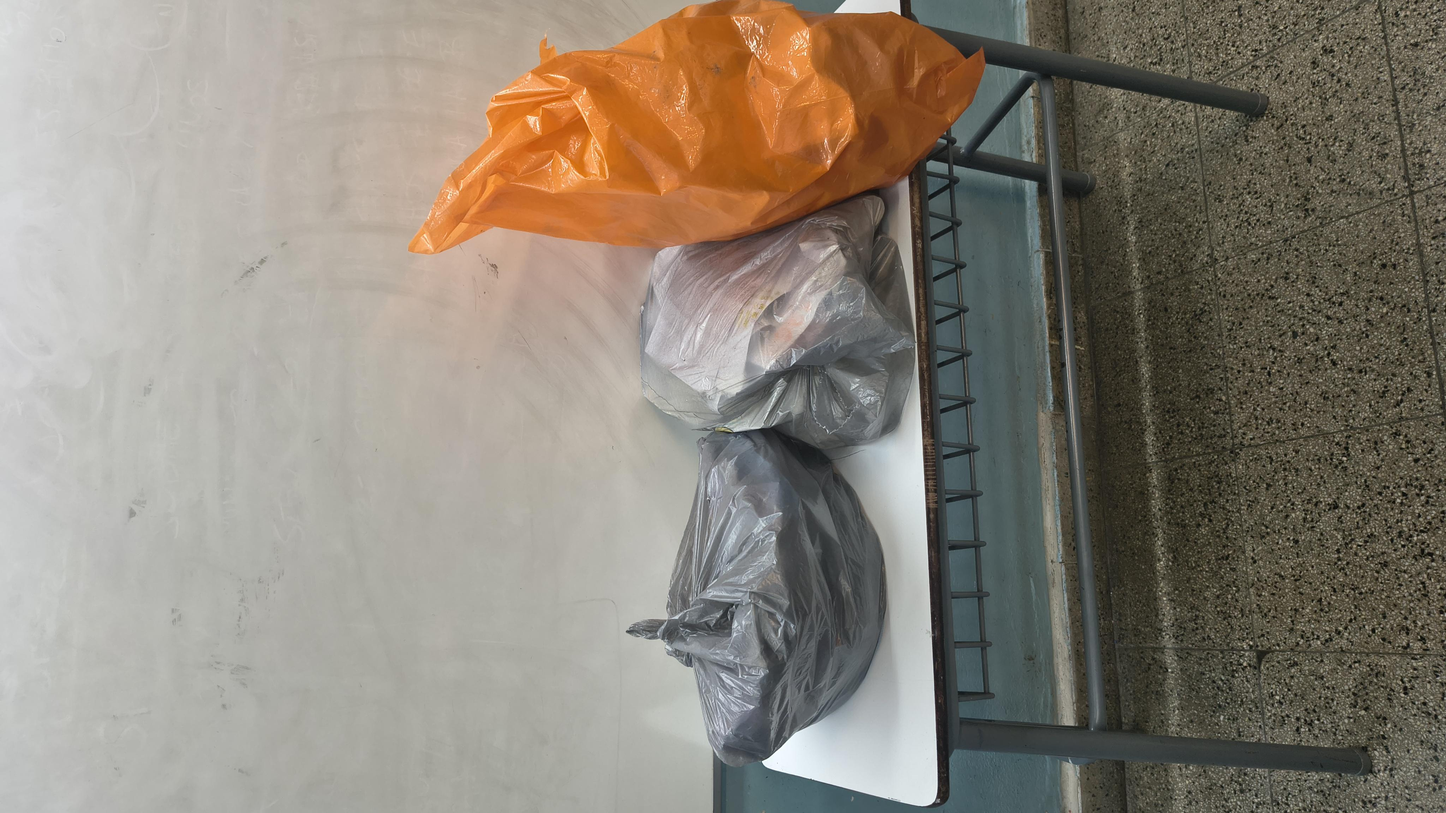Garbage: (954, 220, 1446, 568), (609, 316, 1086, 558), (82, 343, 672, 528)
